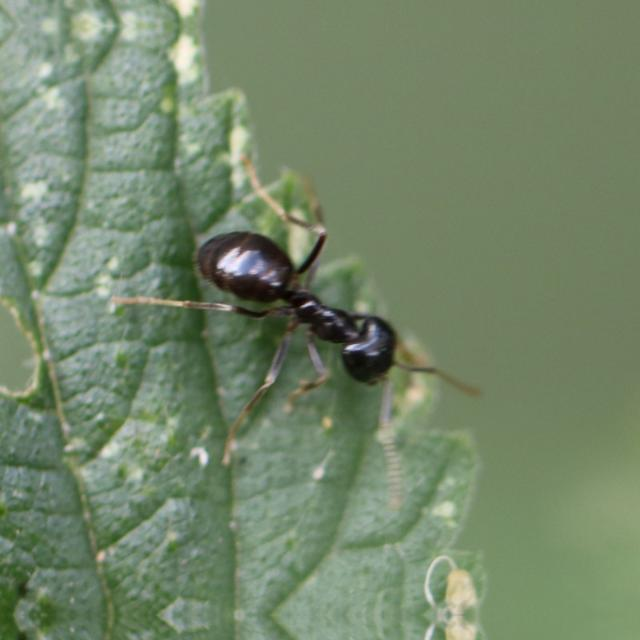Lasius: (178, 186, 430, 407)
